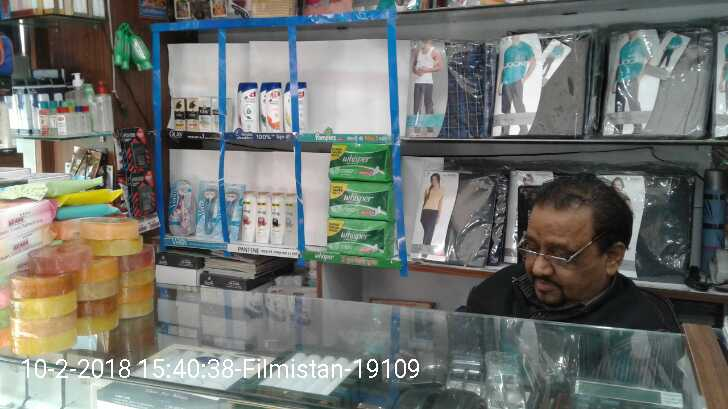venus: (168, 178, 192, 236), (197, 180, 219, 238), (219, 185, 242, 238)
